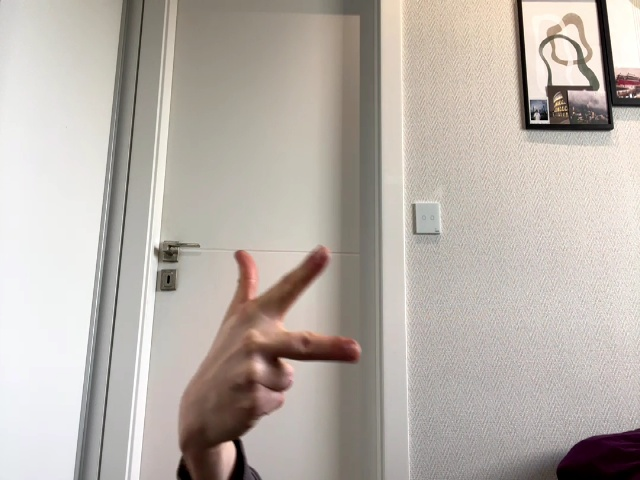K: (195, 245, 361, 440)
